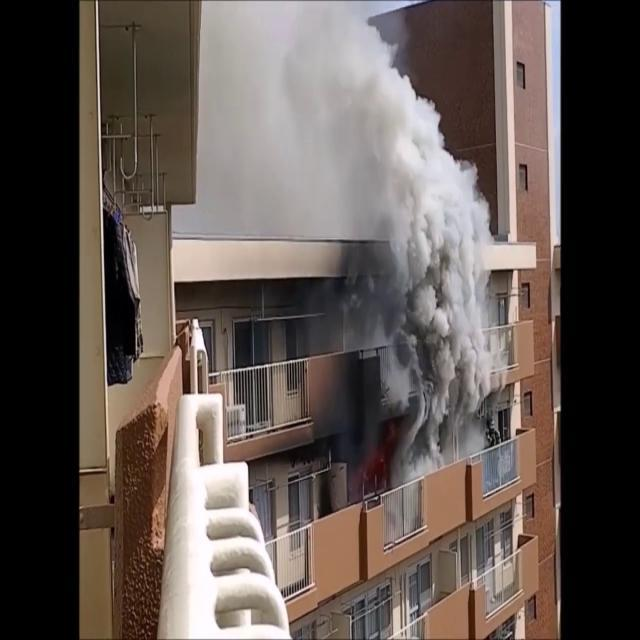Smoke: (213, 2, 501, 466)
